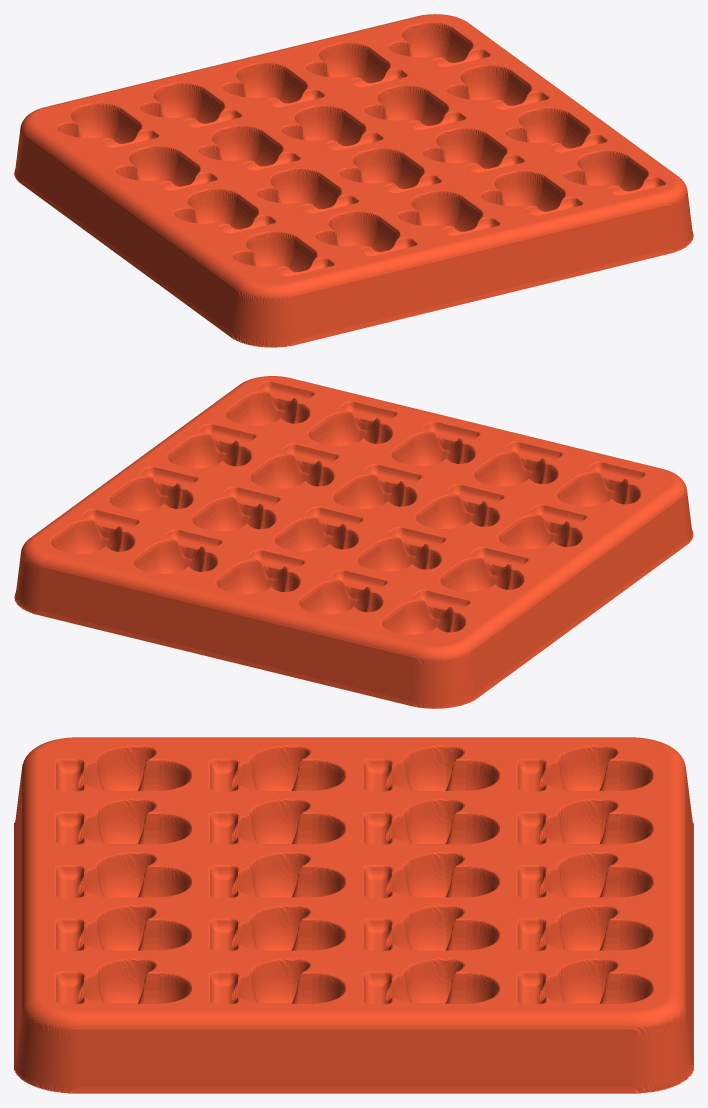
File: mold.glb
The picture shows the model from 3 angles, top to bottom: view 1: azimuth 30°, elevation 25°; view 2: azimuth 150°, elevation 25°; view 3: azimuth 270°, elevation 25°; orthographic projection. The views are drawn at different scales.
Parts seen in each view (by area): view 1: geometry_0; view 2: geometry_0; view 3: geometry_0.
Part boxes in pixels (box(x1,y1,x2,y2)): geometry_0: box(14, 14, 693, 347); geometry_0: box(14, 376, 693, 708); geometry_0: box(14, 737, 693, 1093).
Size of the model in its own units: 0.0992 by 0.0114 by 0.0972.
